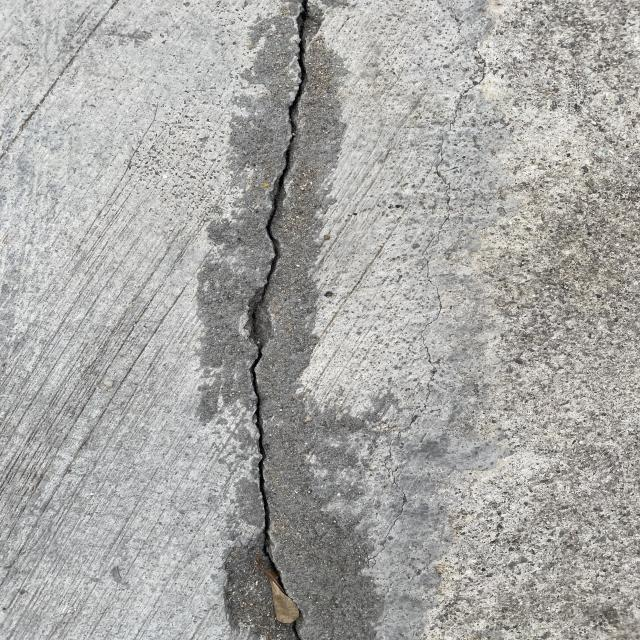Crack: (193, 0, 357, 640)
